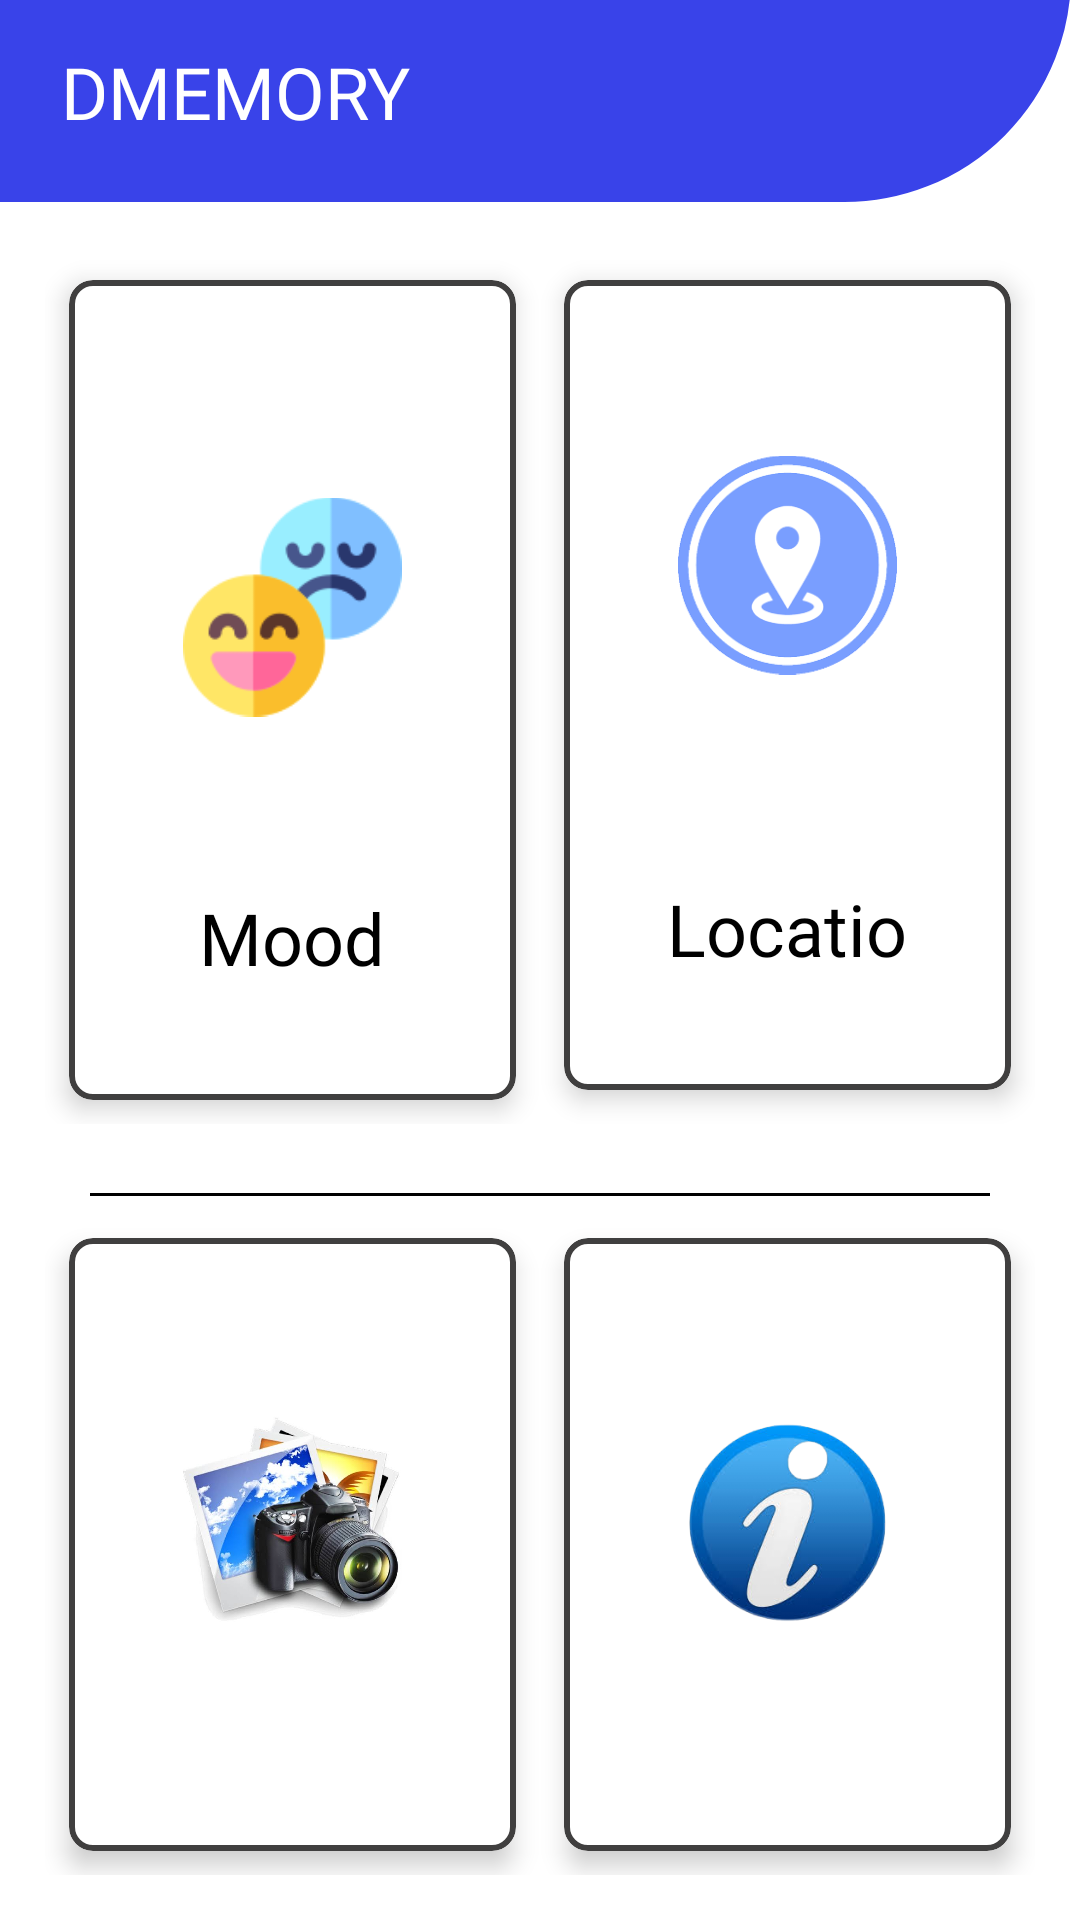

Icon click points for this 1080 x 1920 phone screenshot, format (x=x, y=y):
aboutme: (x=787, y=1523)
attitude: (x=292, y=607)
location: (x=787, y=565)
